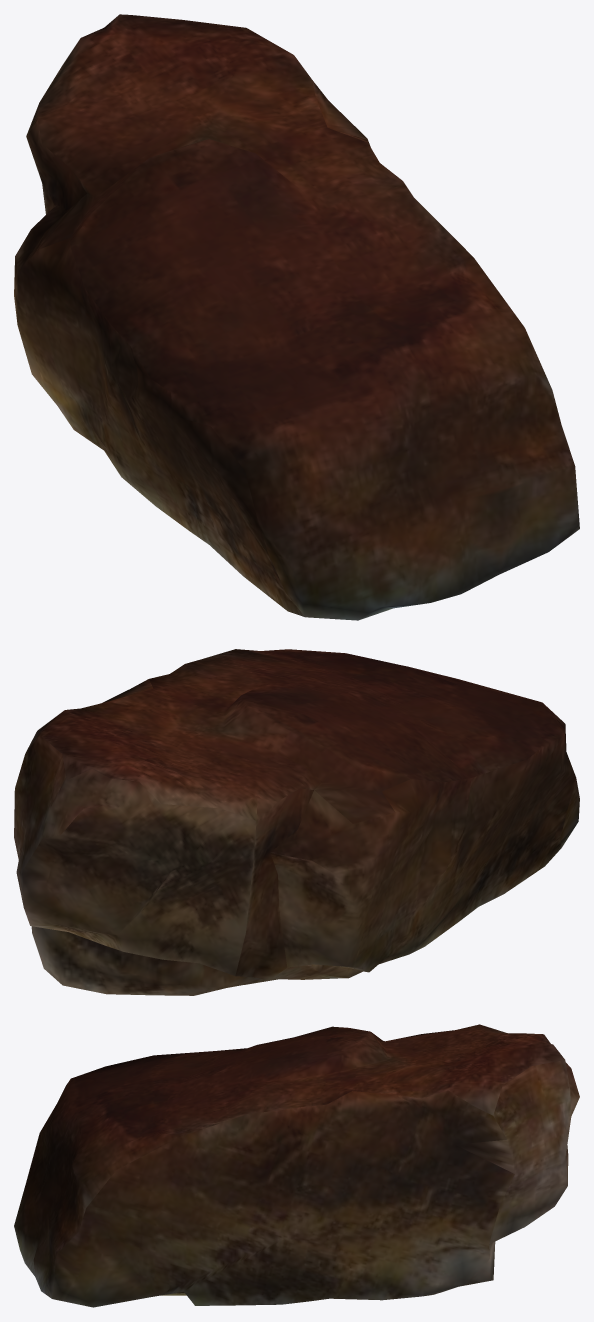
The model's file is rock_small_01.glb.
The picture shows the model from 3 angles, top to bottom: view 1: azimuth 30°, elevation 25°; view 2: azimuth 150°, elevation 25°; view 3: azimuth 270°, elevation 25°; orthographic projection. The views are drawn at different scales.
Parts seen in each view (by area): view 1: rock_small_01; view 2: rock_small_01; view 3: rock_small_01.
Part boxes in pixels (bbox=[...]): rock_small_01: bbox=[14, 14, 579, 620]; rock_small_01: bbox=[14, 649, 579, 995]; rock_small_01: bbox=[14, 1024, 579, 1307].
Size of the model in its own units: 0.1657 by 0.1427 by 0.3215.
Materials: 1 (1 with a texture image).
